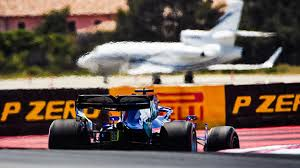FormulaOneCar: (45, 88, 242, 157)
